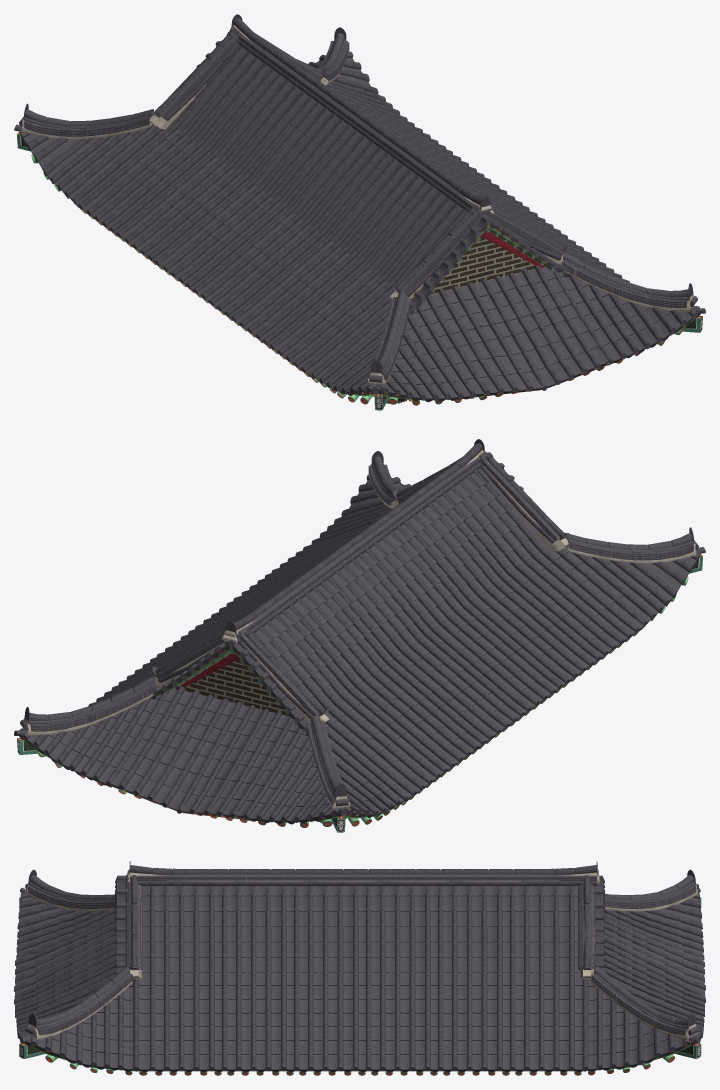
Rendered from SM_R_Namgunyeong.fbx.
3 views of the same model, one above another, from view 1: azimuth 30°, elevation 25°; view 2: azimuth 150°, elevation 25°; view 3: azimuth 270°, elevation 25° (orthographic). The views are drawn at different scales.
Visible parts, largest first — view 1: SM_R_Namgunyeong; view 2: SM_R_Namgunyeong; view 3: SM_R_Namgunyeong.
Part boxes in pixels (x1,y1,x2,y2): SM_R_Namgunyeong: [14, 14, 705, 410]; SM_R_Namgunyeong: [14, 439, 705, 832]; SM_R_Namgunyeong: [14, 861, 705, 1075].
Bounding box in the file's own units: 995 × 1900 × 464.
8 materials, 8 textured.
